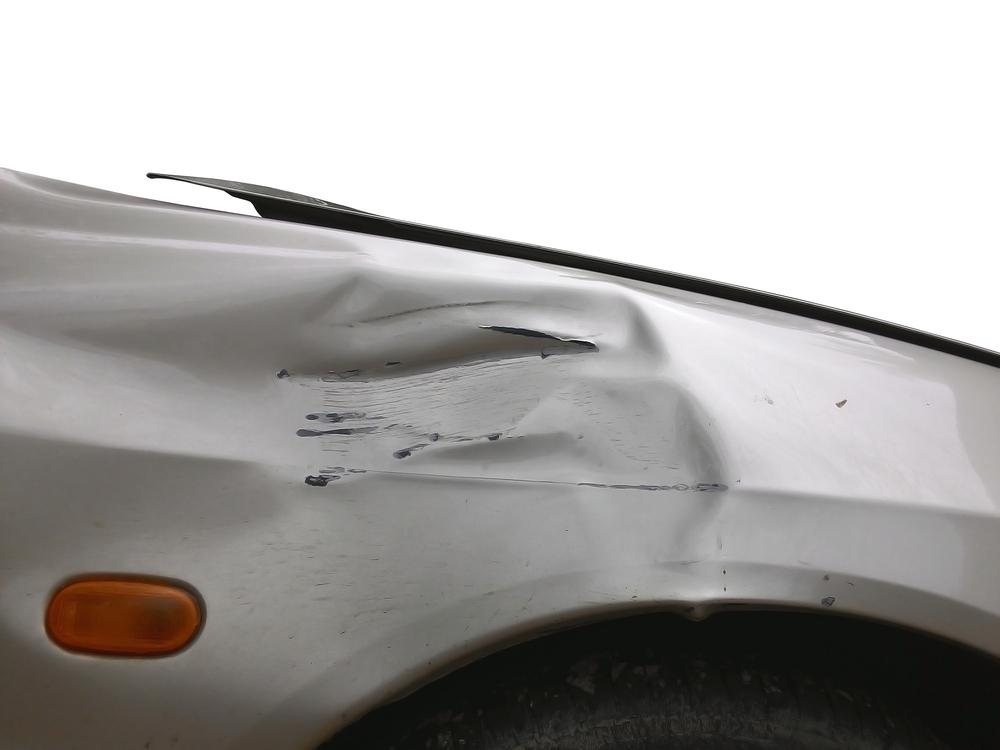dent: (54, 276, 720, 599)
